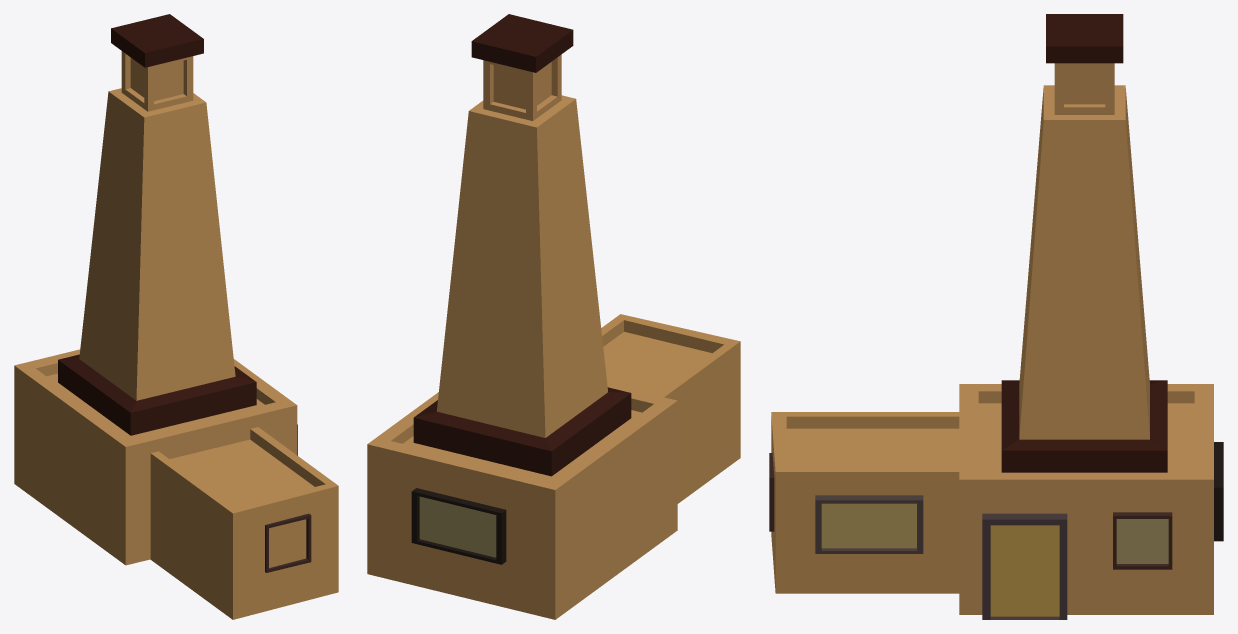
Rendered from Tower.fbx.
3 renders of one model, left to right at view 1: azimuth 30°, elevation 25°; view 2: azimuth 150°, elevation 25°; view 3: azimuth 270°, elevation 25°, orthographic. The views are drawn at different scales.
Parts seen in each view (by area): view 1: Cube, House Long.001, House.001, Window Square.002; view 2: Cube, House.001, House Long.001, Window Long.002; view 3: Cube, House.001, House Long.001, Door.001, Window Long.001, Window Square.001, Window Long.002.
Part boxes in pixels (x1,y1,x2,y2): Cube: (58, 14, 256, 435); House Long.001: (150, 427, 338, 619); House.001: (14, 349, 297, 565); Window Square.002: (265, 513, 311, 572); Cube: (413, 14, 631, 476); House.001: (367, 383, 677, 619); House Long.001: (601, 314, 740, 503); Window Long.002: (411, 488, 506, 564); Cube: (1001, 14, 1167, 472); House.001: (959, 384, 1213, 614); House Long.001: (771, 412, 959, 593); Door.001: (982, 513, 1067, 619); Window Long.001: (815, 495, 923, 553); Window Square.001: (1113, 512, 1172, 569); Window Long.002: (1214, 442, 1223, 541).
Size of the model in its own units: 992 by 2446 by 1875.
